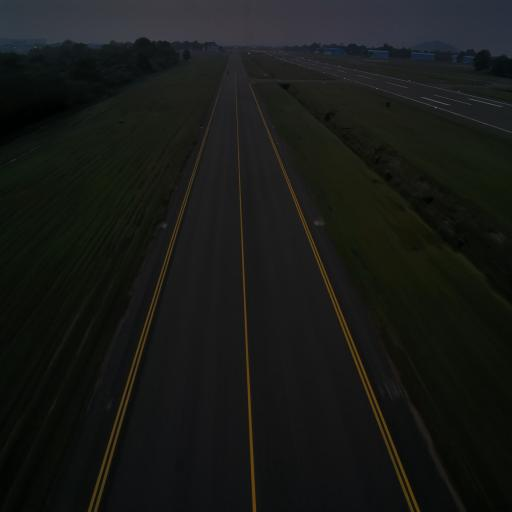on: (316, 216, 319, 222), (163, 219, 166, 225), (201, 124, 203, 128), (272, 124, 274, 127)
